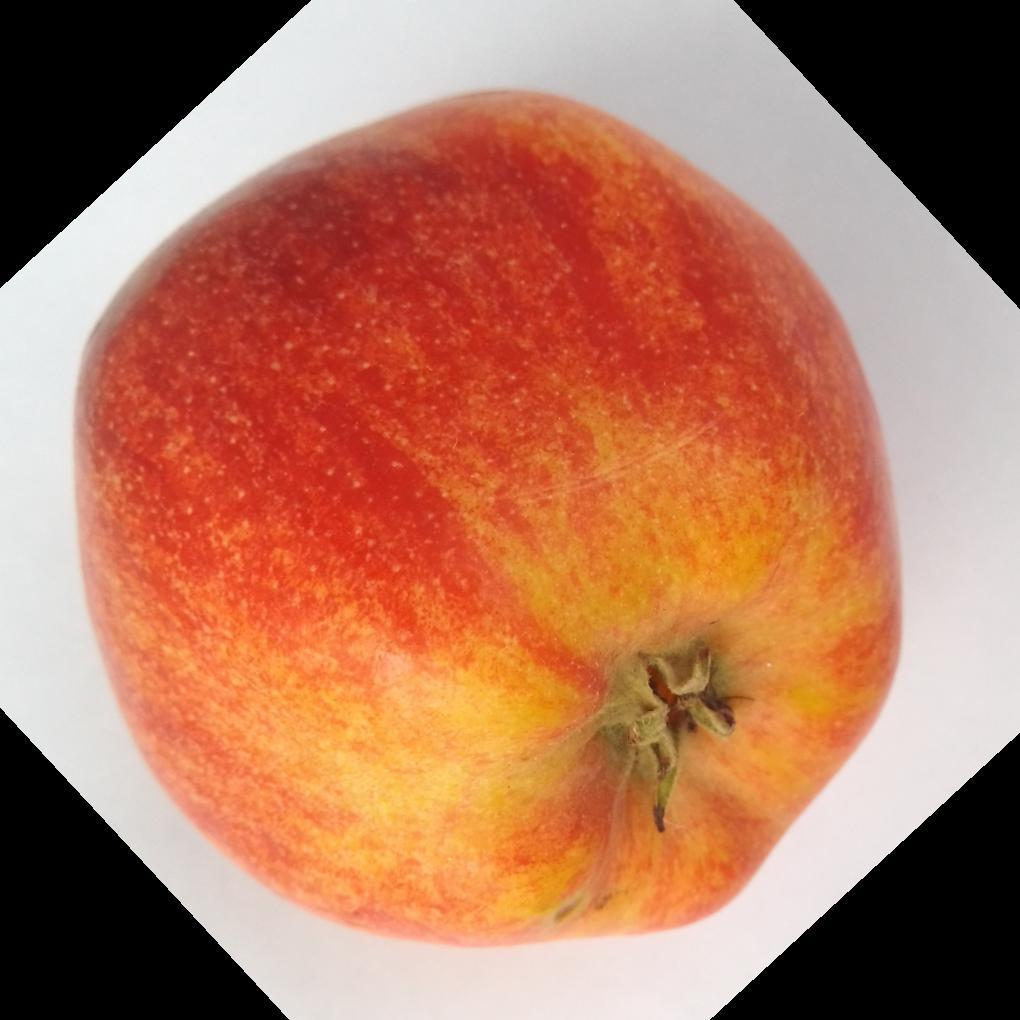FreshGuava: (69, 89, 904, 952)
